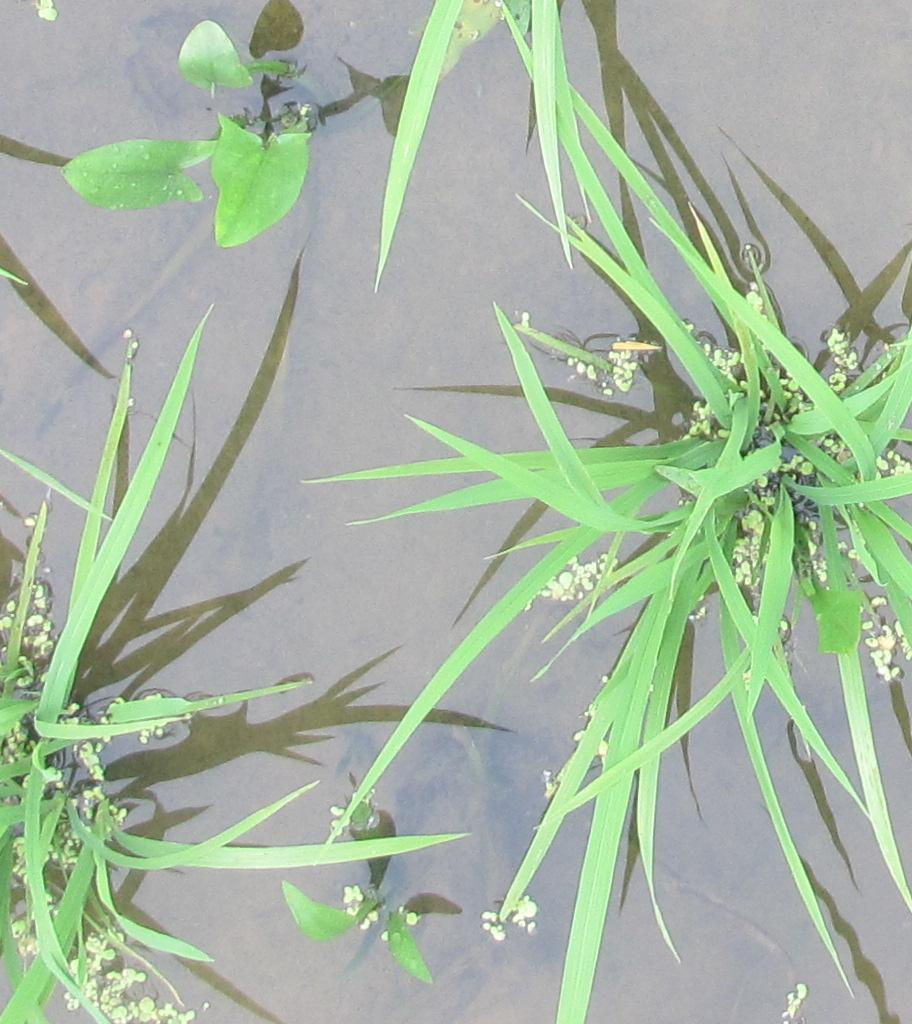Weed: (67, 22, 316, 244)
